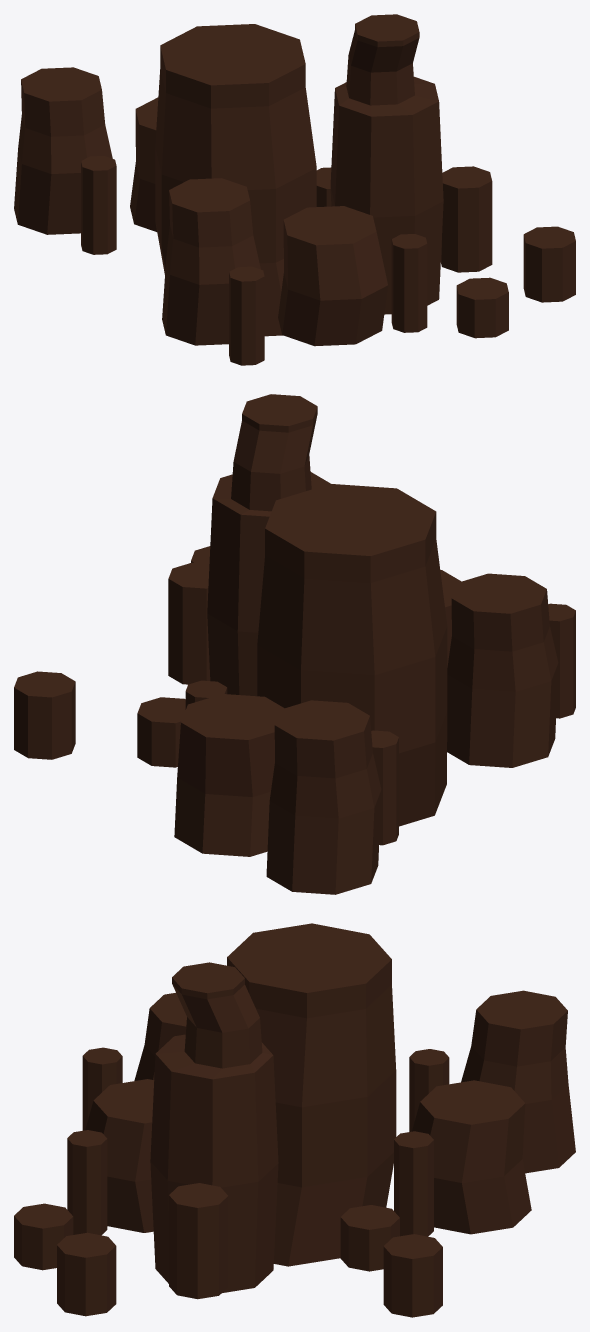
Rendered from kamienie_3.fbx.
3 views of the same model, one above another, from view 1: azimuth 30°, elevation 25°; view 2: azimuth 150°, elevation 25°; view 3: azimuth 270°, elevation 25° (orthographic). The views are drawn at different scales.
Parts seen in each view (by area): view 1: Cylinder.001; view 2: Cylinder.001; view 3: Cylinder.001.
Boxes of the visible parts, x1,y1,x2,y2 form: Cylinder.001: (14,14,575,365); Cylinder.001: (14,394,575,894); Cylinder.001: (14,923,575,1317).
Bounding box in the file's own units: 2401 × 1784 × 2998.
